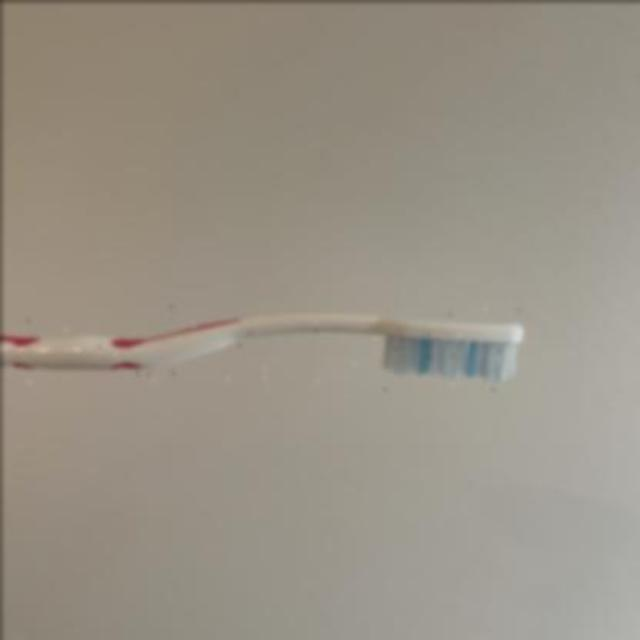toothbrush: (0, 299, 538, 391)
